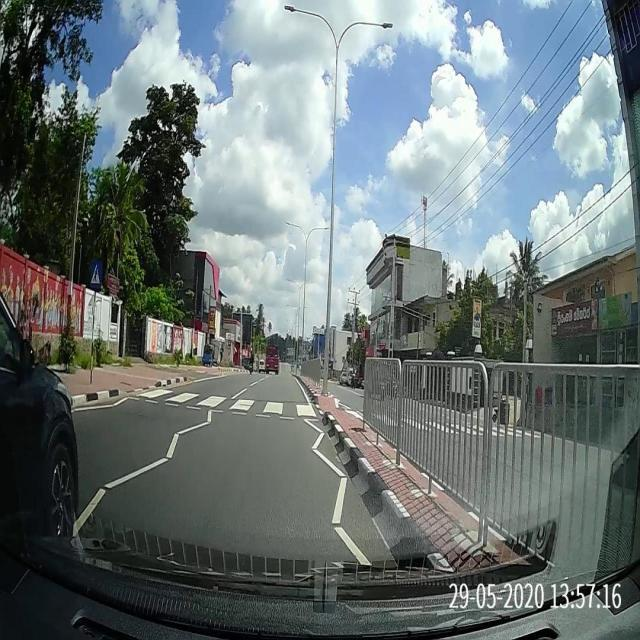Crosswalk: (122, 384, 553, 438)
